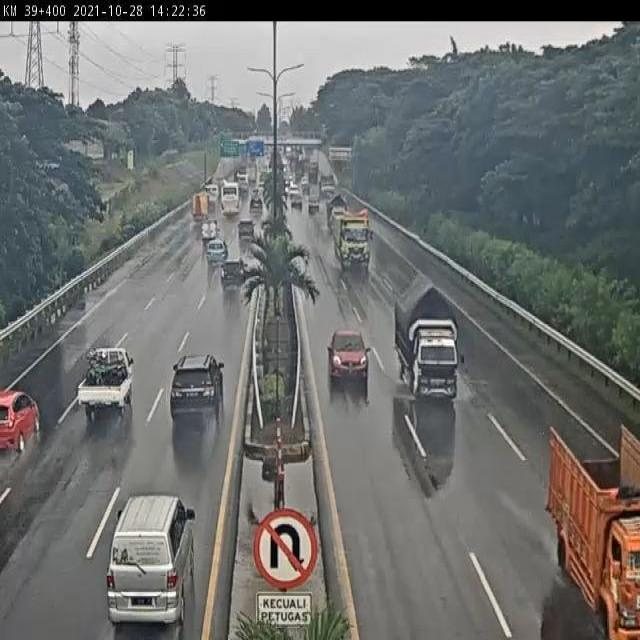car: (106, 496, 195, 624), (76, 344, 134, 420), (169, 355, 226, 420), (326, 327, 373, 384), (0, 388, 42, 451), (220, 257, 249, 288), (205, 237, 231, 267), (237, 217, 256, 239)
truck-l-: (333, 205, 374, 268)
truck-m-: (392, 268, 464, 404)
truck-s-: (549, 429, 640, 640), (200, 218, 219, 242)
